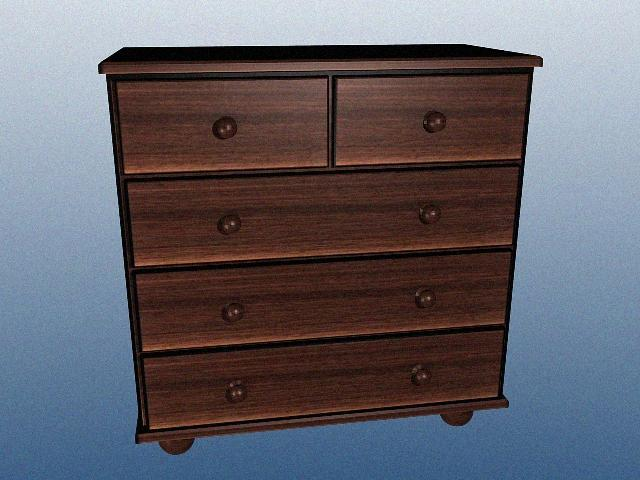cabinet_door: (128, 173, 516, 260), (136, 260, 508, 341), (143, 340, 502, 414), (118, 78, 333, 177), (333, 74, 525, 169)
handle: (211, 114, 242, 143), (421, 107, 451, 132), (219, 302, 248, 324), (416, 204, 443, 227), (214, 215, 244, 235), (413, 291, 440, 313), (221, 385, 248, 404), (408, 366, 432, 387)
